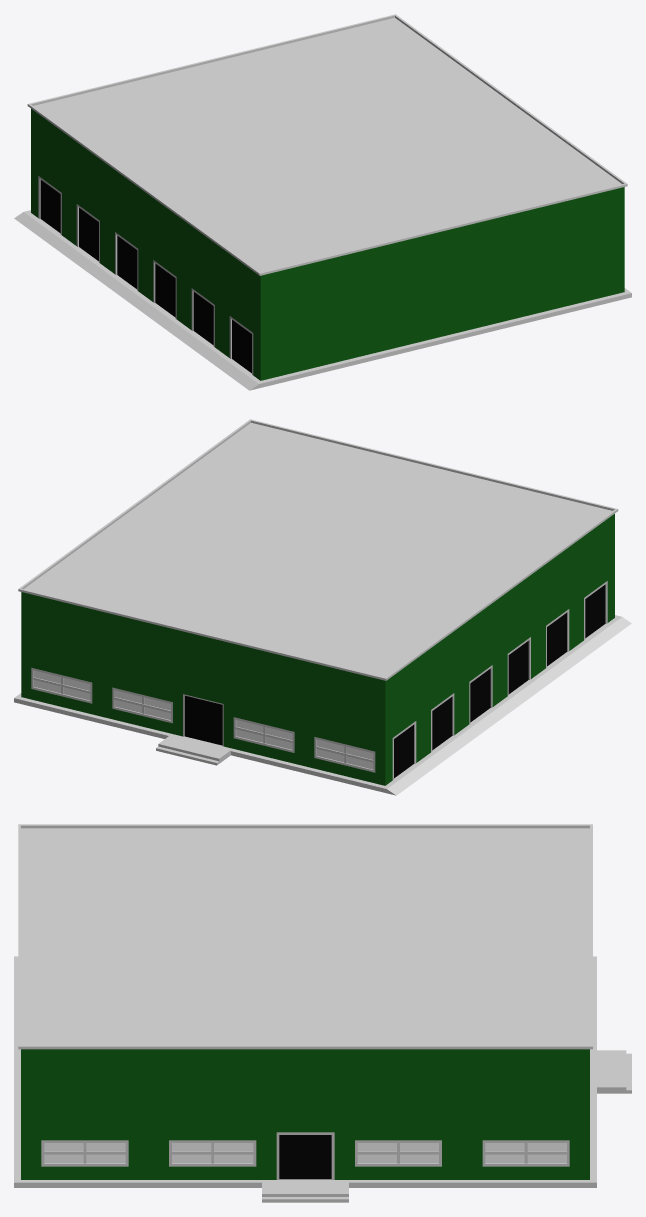
The model's file is SuperMarket.fbx.
3 views of the same model, one above another, from view 1: azimuth 30°, elevation 25°; view 2: azimuth 150°, elevation 25°; view 3: azimuth 270°, elevation 25° (orthographic). The views are drawn at different scales.
Visible parts, largest first — view 1: building_001; view 2: building_001; view 3: building_001.
Part boxes in pixels (x1,y1,x2,y2): building_001: (14, 14, 631, 390); building_001: (14, 419, 631, 795); building_001: (14, 824, 631, 1202).
Bounding box in the file's own units: 2003 × 530 × 2127.
